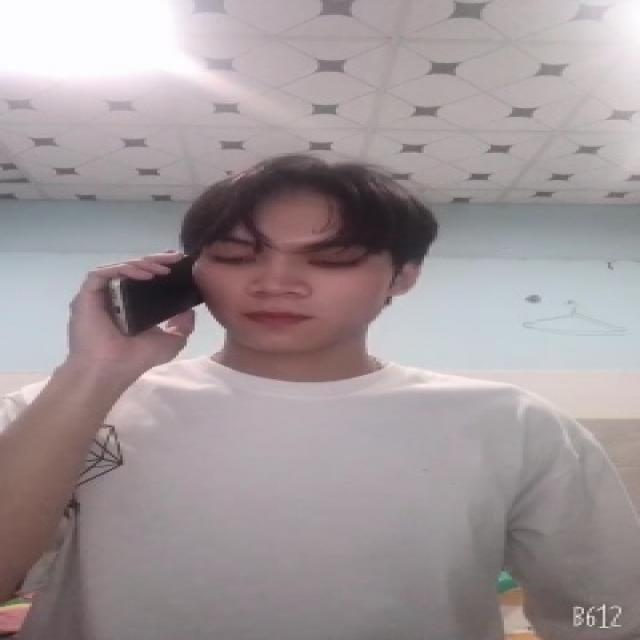Phone: (100, 250, 205, 338)
